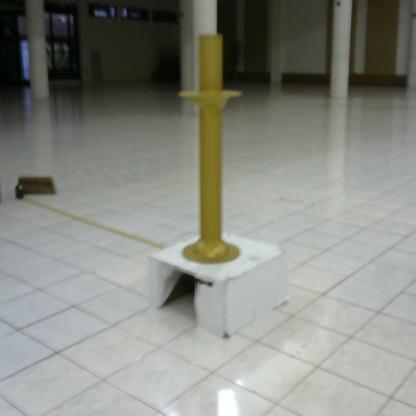pole: (172, 27, 246, 270)
